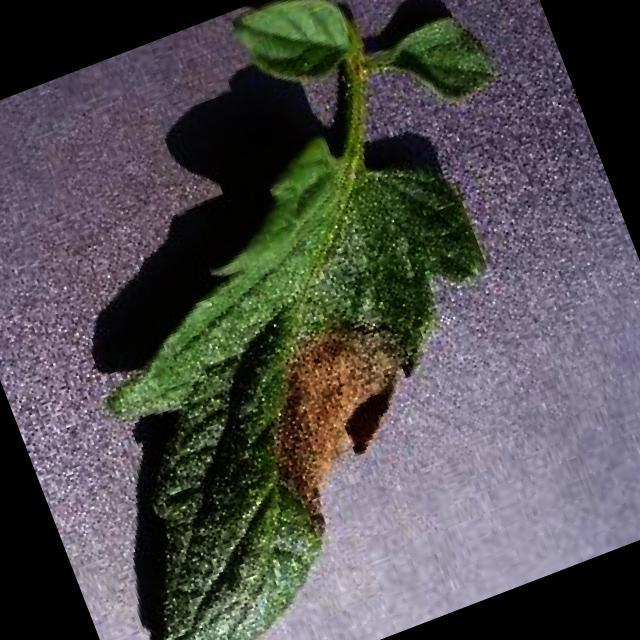Tomato healthy leaf: (377, 0, 505, 118), (226, 0, 362, 101)
Tomato late blight leaf: (0, 96, 581, 640)
